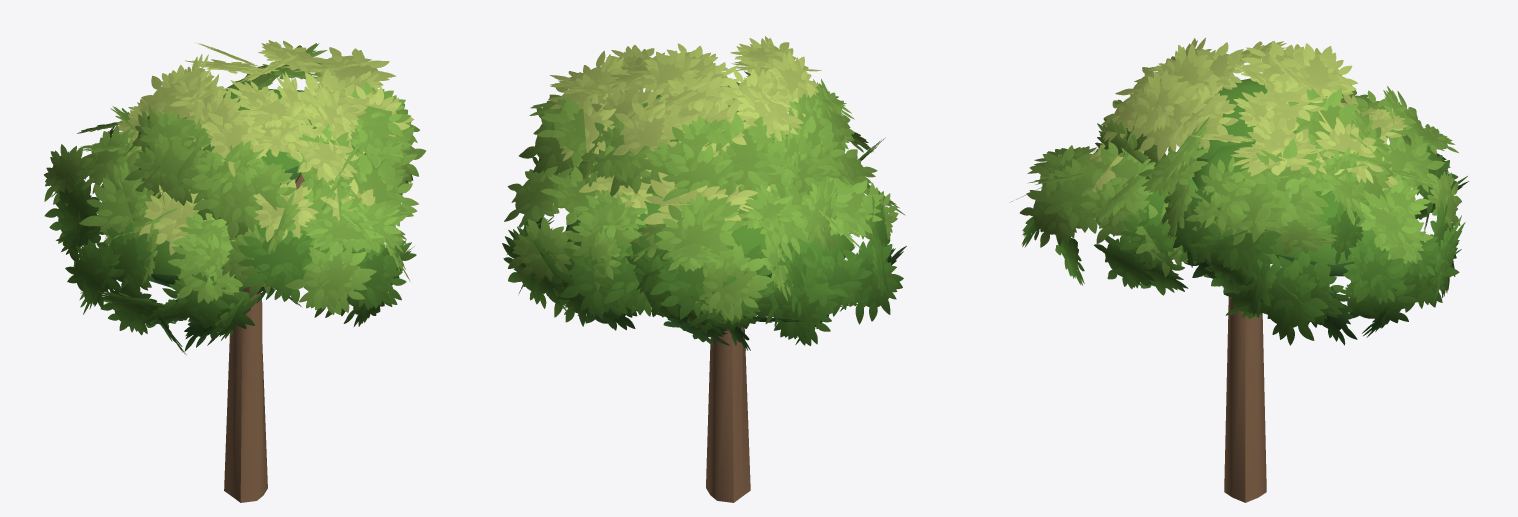
Rendered from tree_round_a.glb.
3 views of the same model, side by side, from view 1: azimuth 30°, elevation 25°; view 2: azimuth 150°, elevation 25°; view 3: azimuth 270°, elevation 25° (orthographic). The views are drawn at different scales.
Visible parts, largest first — view 1: body; view 2: body; view 3: body.
Boxes of the visible parts, left/top/right/bottom form: body: left=44, top=40, right=425, bottom=502; body: left=502, top=36, right=906, bottom=502; body: left=1009, top=37, right=1468, bottom=502.
Bounding box in the file's own units: 4.88 × 5.5 × 5.51.
Materials: 2 (1 with a texture image).
